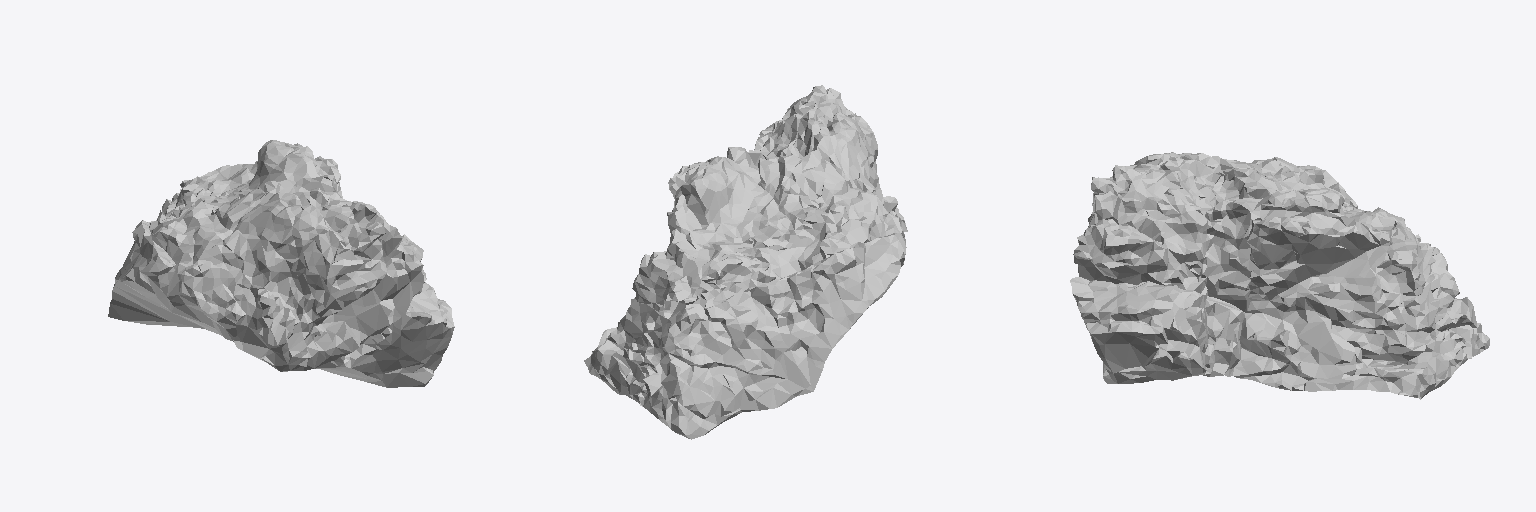
File: rock.obj
The picture shows the model from 3 angles: view 1: azimuth 30°, elevation 25°; view 2: azimuth 150°, elevation 25°; view 3: azimuth 270°, elevation 25°; orthographic projection.
Parts seen in each view (by area): view 1: boulder_01_LOD0.001; view 2: boulder_01_LOD0.001; view 3: boulder_01_LOD0.001.
Boxes of the visible parts, box(x1,y1,x2,y2) form: boulder_01_LOD0.001: box(108, 140, 454, 387); boulder_01_LOD0.001: box(584, 85, 907, 439); boulder_01_LOD0.001: box(1070, 152, 1489, 399).
Size of the model in its own units: 1.28 by 1 by 1.83.